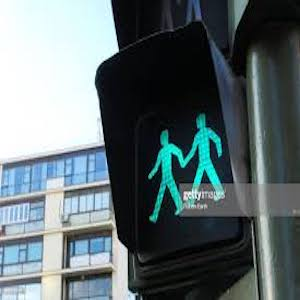green: (135, 120, 223, 210)
